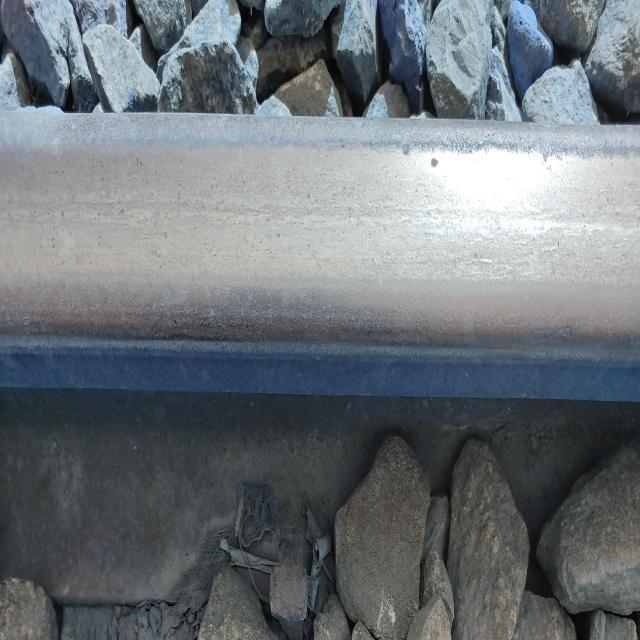head_checks_low: (402, 133, 412, 162), (430, 152, 440, 174)
